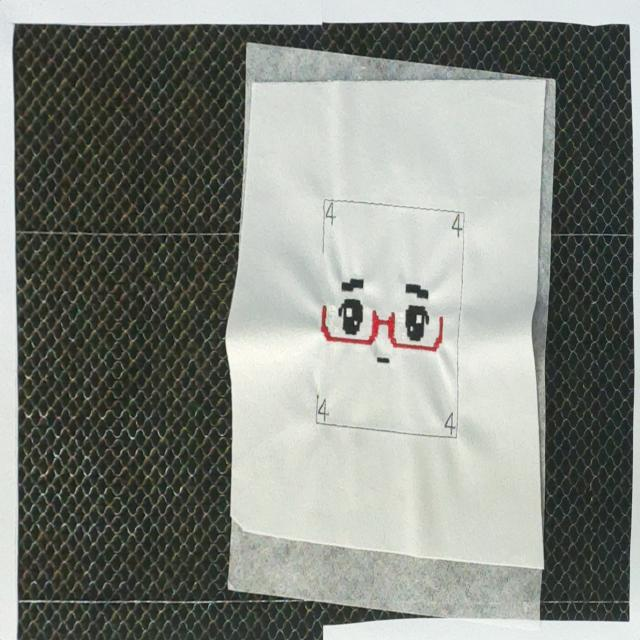4 -: (450, 210, 464, 243), (318, 395, 330, 424), (442, 412, 456, 436), (326, 204, 337, 226)
